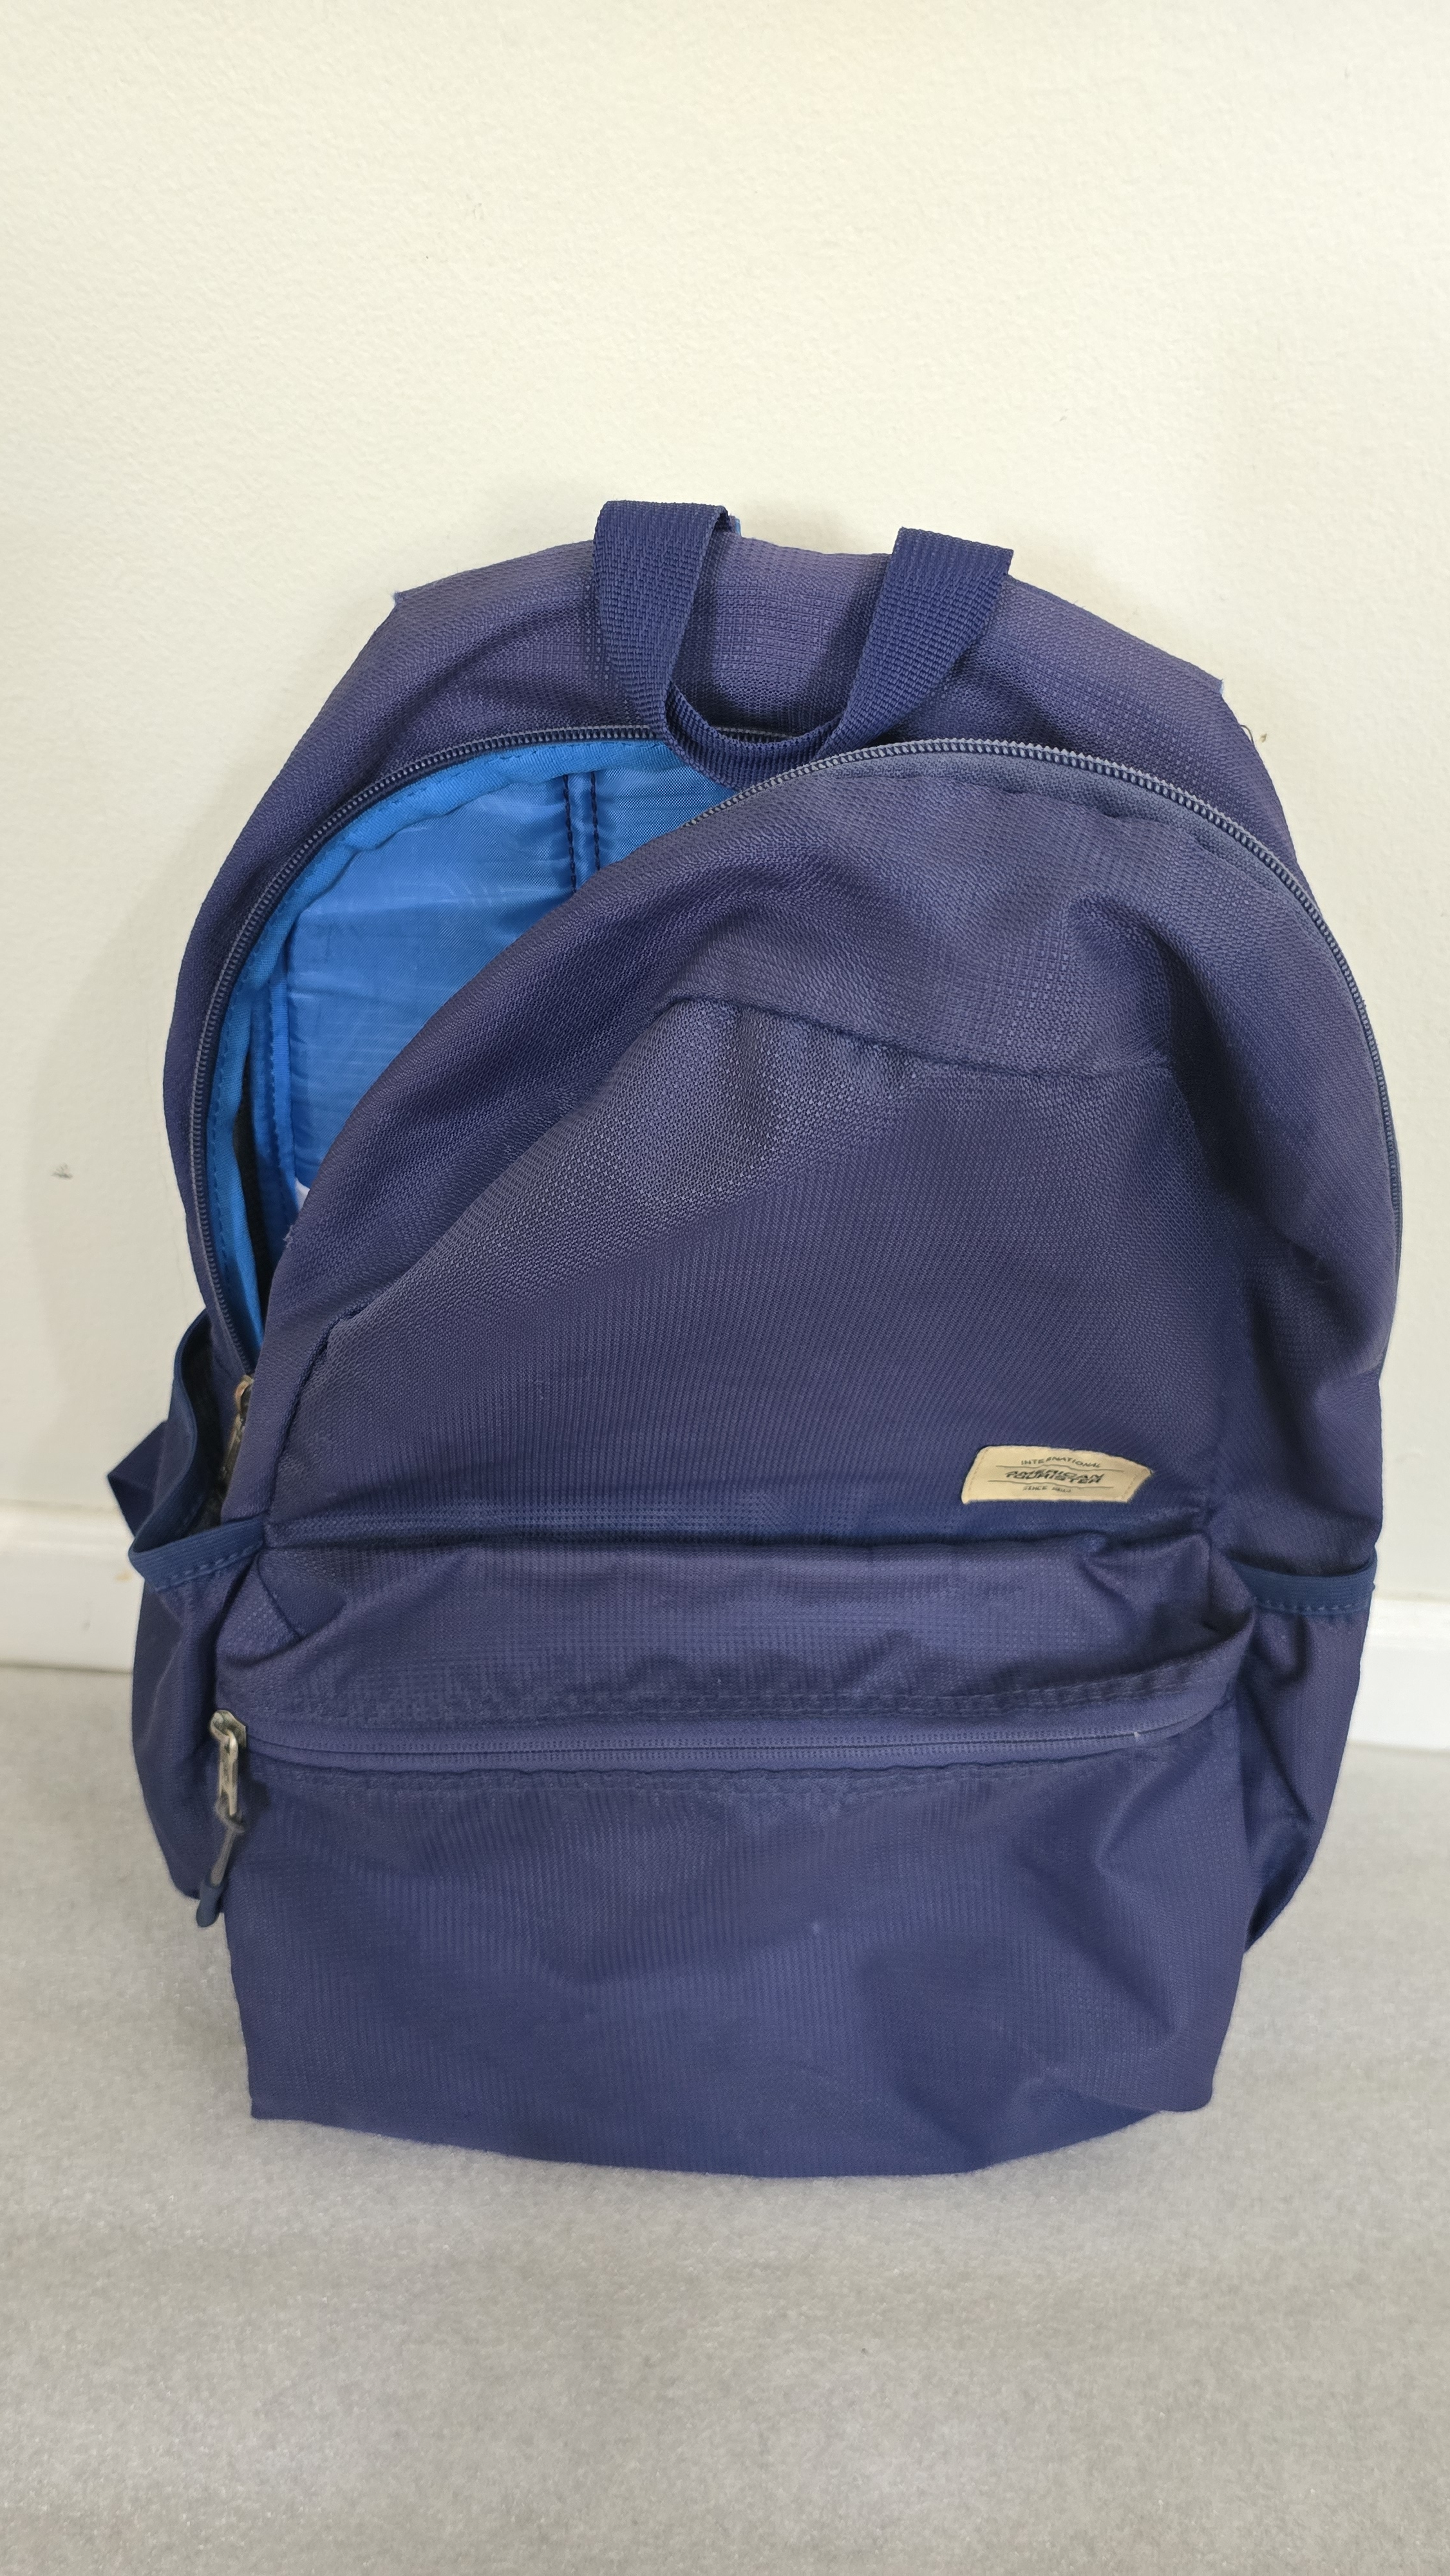bag: (127, 437, 1393, 2181)
